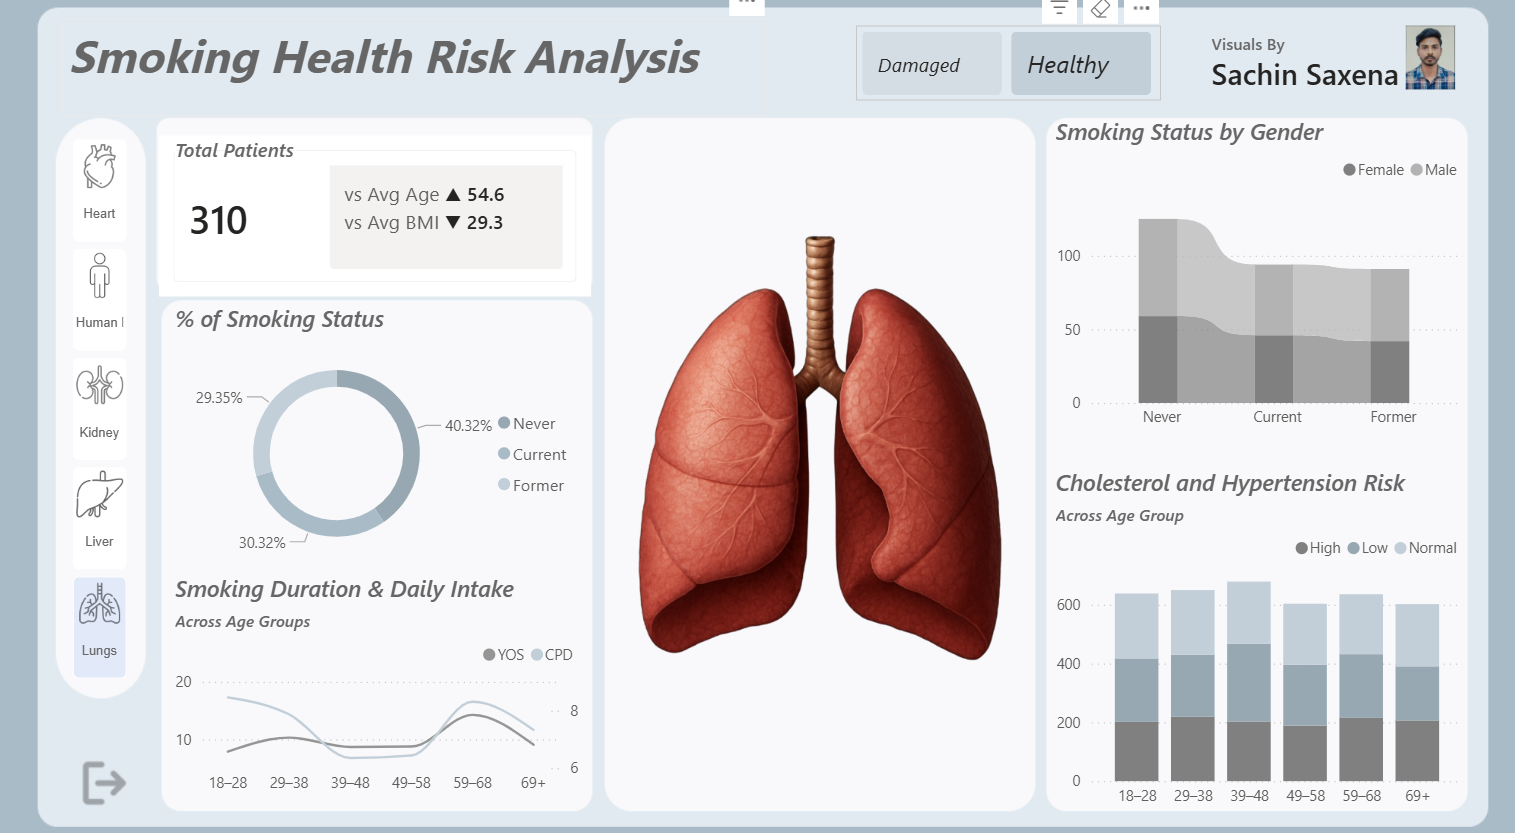

Layout of this report page (visuals, bound fields, positions):
{"tool":"powerbi","page":{"name":"Page 1","canvas":[1280,720],"ordinal":0},"visuals":[{"type":"cardVisual","fields":{"Data":["CountNonNull(health_dataset.Patient_ID)"]},"box":[134.8,118.1,366.4,143.8],"z":0},{"type":"textbox","box":[148.4,118.1,249.8,57.5],"z":1000},{"type":"advancedSlicerVisual","fields":{"Values":["condition.Organ_Condition"]},"box":[714.7,33.3,249.8,62.1],"z":2000},{"type":"image","box":[513.3,118.1,346.8,557.2],"z":3000},{"type":"ChicletSlicer1448559807354","fields":{"Category":["Organs.Organ"],"Image":["Organs.Icon_URL"]},"box":[60.6,118.1,74.2,475.5],"z":4000},{"type":"donutChart","title":"% of Smoking Status","fields":{"Category":["health_dataset.Smoking_Status"],"Y":["CountNonNull(health_dataset.Smoking_Status)"]},"box":[148.4,262,342.2,222.6],"z":5000},{"type":"lineChart","title":"Smoking Duration & Daily Intake","fields":{"Category":["health_dataset.Age Group"],"Y":["Avg(health_dataset.Years_of_Smoking)"],"Y2":["Avg(health_dataset.Cigarettes_Per_Day)"]},"box":[148.4,484.5,342.2,190.8],"z":6000},{"type":"ribbonChart","title":"Smoking Status by Gender","fields":{"Category":["health_dataset.Smoking_Status"],"Y":["CountNonNull(health_dataset.Patient_ID)"],"Series":["health_dataset.Gender"]},"box":[873.7,107.5,345.2,266.5],"z":7000},{"type":"columnChart","title":"Cholesterol and Hypertension Risk","fields":{"Category":["health_dataset.Age Group"],"Y":["Avg(health_dataset.Cholesterol_Level)"],"Series":["health_dataset.BP_Risk"]},"box":[873.7,396.7,345.2,289.2],"z":8000},{"type":"textbox","box":[60.6,27.3,579.9,80.3],"z":9000},{"type":"textbox","box":[1002.4,33.3,277.1,307.4],"z":10000},{"type":"image","box":[1141.7,33.3,90.9,53],"z":11000}]}

Visuals, with their boxes on the page's 1280x720 design canvas (x1, y1, x2, y2). These are canvas units, not pixel positions in the 1515x833 screenshot, which may show the page scaled, cropped or inside an application window:
cardVisual - CountNonNull(health_dataset.Patient_ID): box(135, 118, 501, 262)
textbox: box(148, 118, 398, 176)
advancedSlicerVisual - condition.Organ_Condition: box(715, 33, 964, 95)
image: box(513, 118, 860, 675)
ChicletSlicer1448559807354 - Organs.Organ x Organs.Icon_URL: box(61, 118, 135, 594)
"% of Smoking Status" donutChart: box(148, 262, 491, 485)
"Smoking Duration & Daily Intake" lineChart: box(148, 484, 491, 675)
"Smoking Status by Gender" ribbonChart: box(874, 108, 1219, 374)
"Cholesterol and Hypertension Risk" columnChart: box(874, 397, 1219, 686)
textbox: box(61, 27, 640, 108)
textbox: box(1002, 33, 1280, 341)
image: box(1142, 33, 1233, 86)
